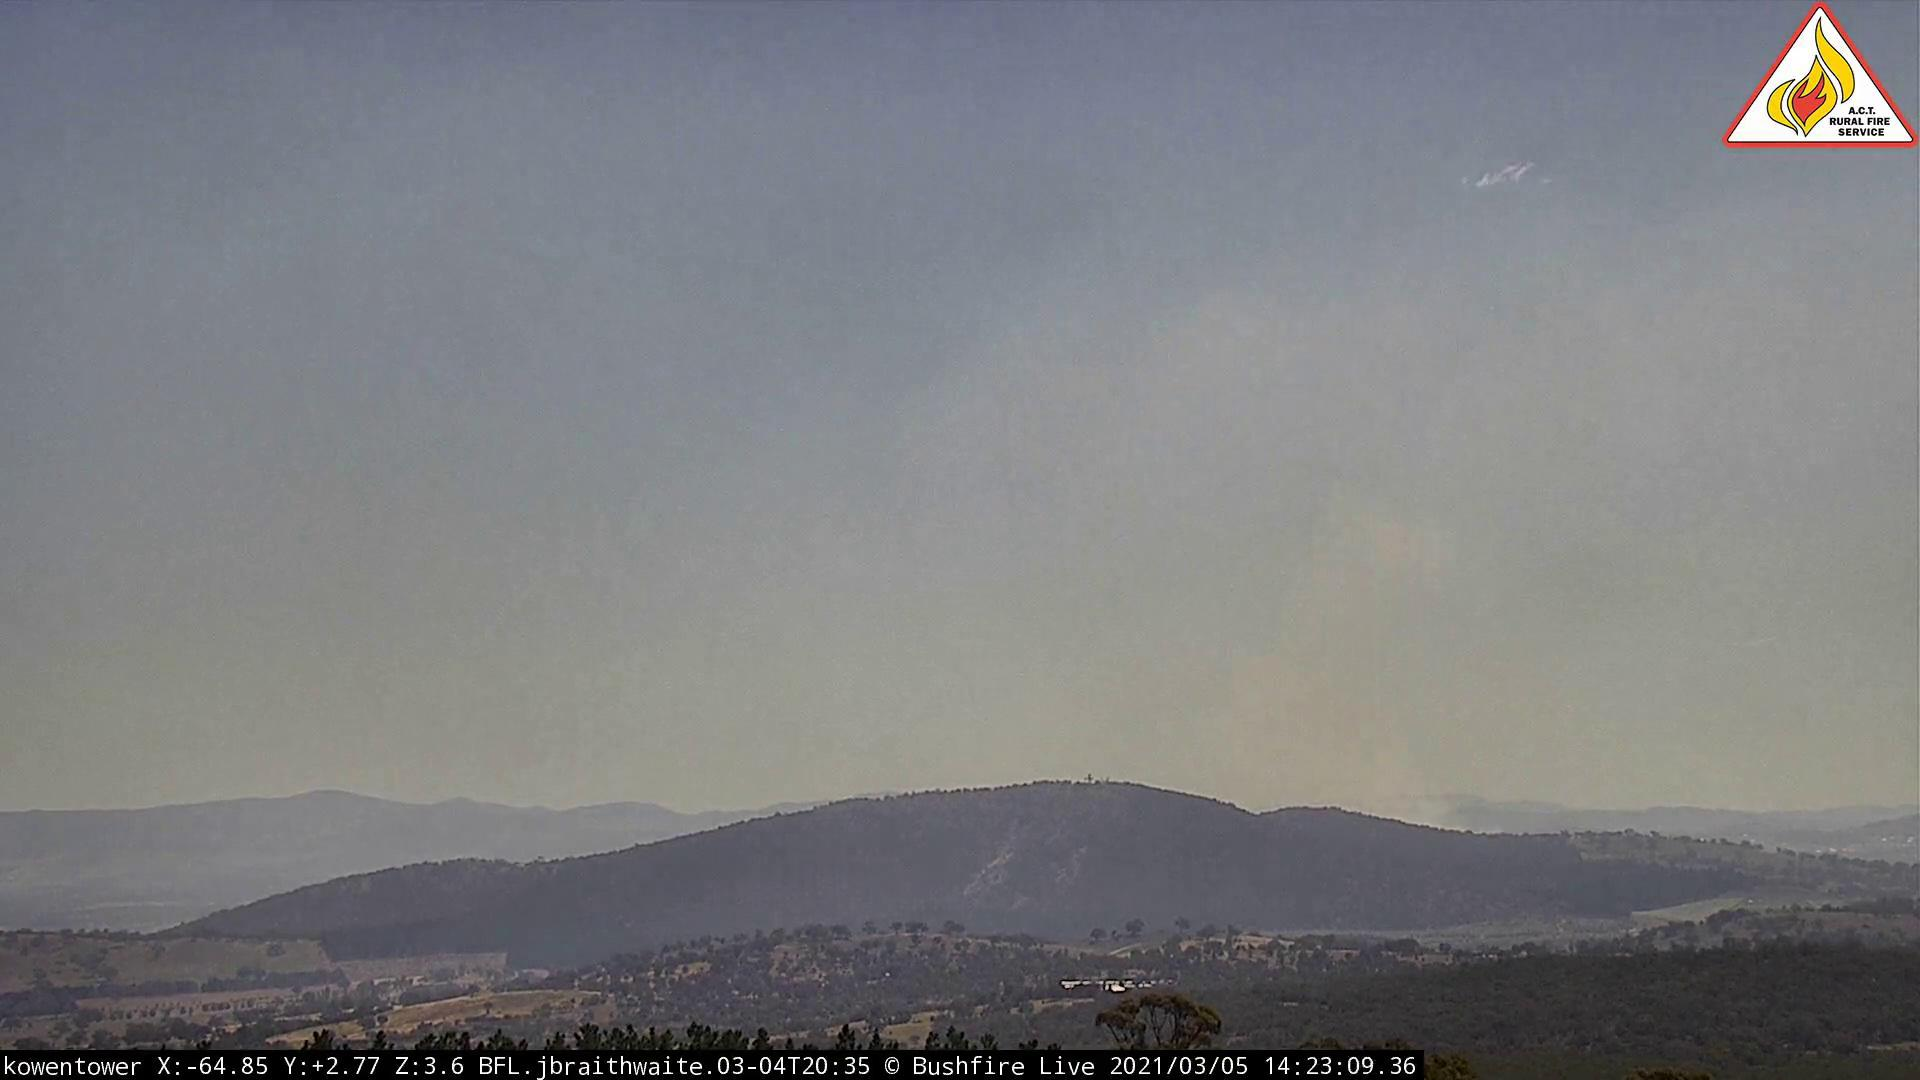Smoke: (1176, 502, 1491, 844)
